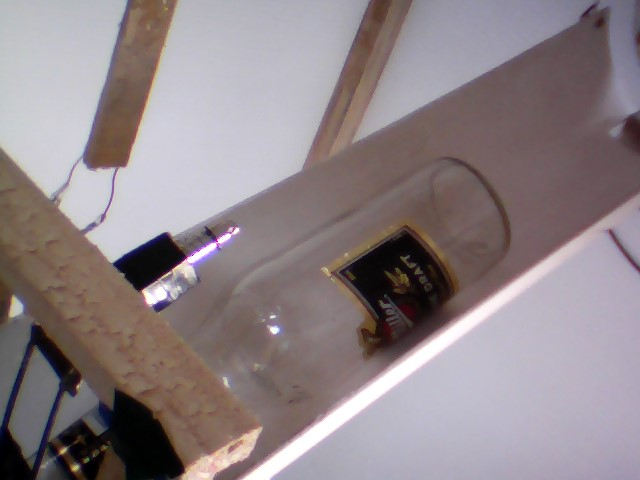vidrio: (175, 145, 513, 421)
